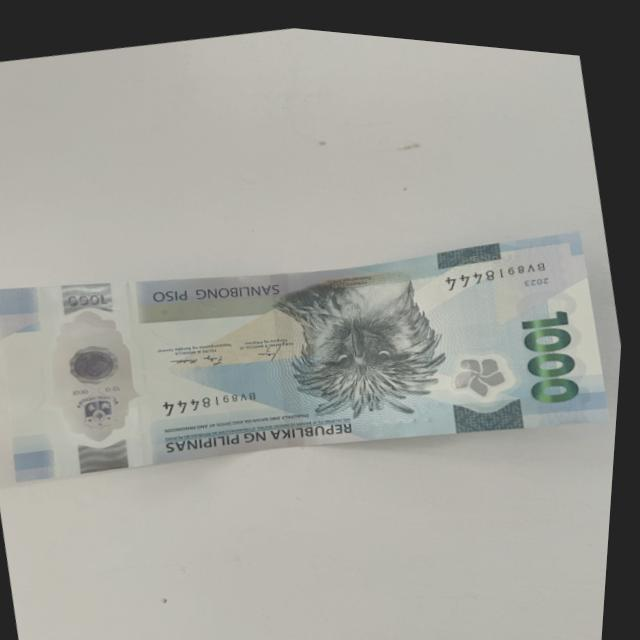clear_window: (34, 292, 161, 456)
eagle: (273, 249, 465, 423)
sampaguita: (449, 329, 520, 397)
security_thread: (259, 262, 323, 441)
serial_number: (146, 365, 276, 429), (431, 233, 558, 296)
value: (504, 275, 607, 407)
